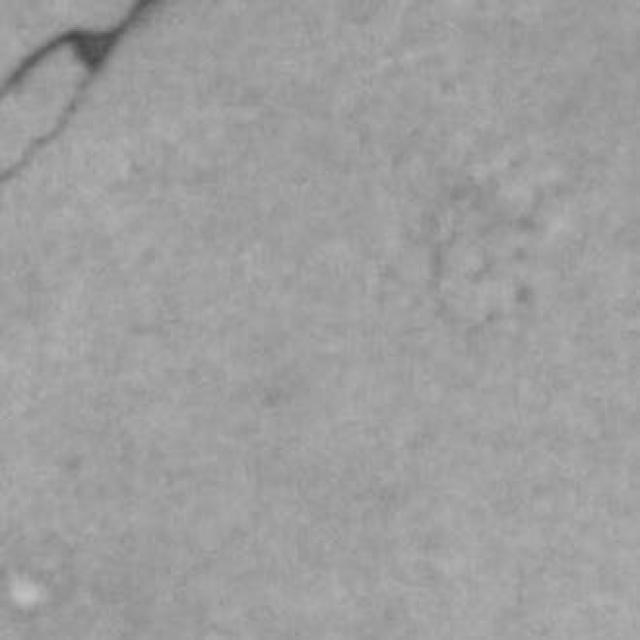crack: (0, 0, 166, 184)
